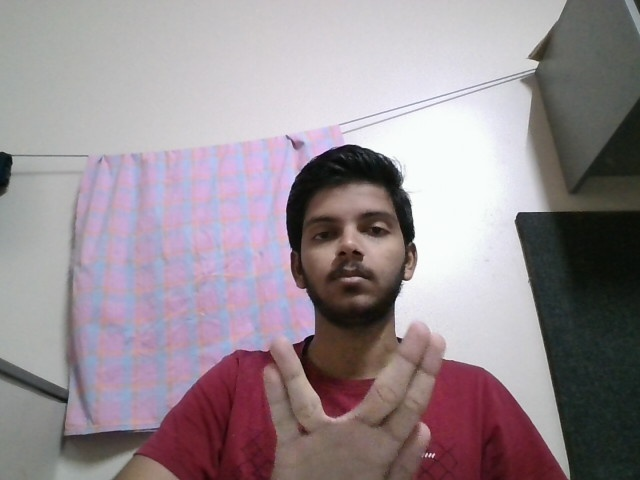Live Long: (248, 317, 454, 480)
